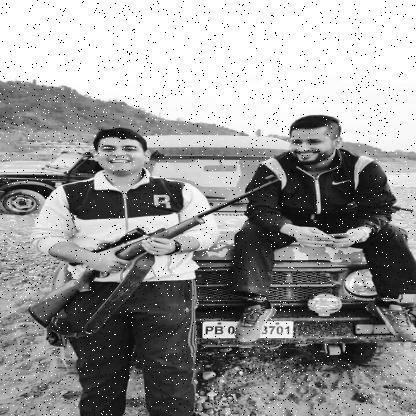rifle: (26, 174, 286, 330)
